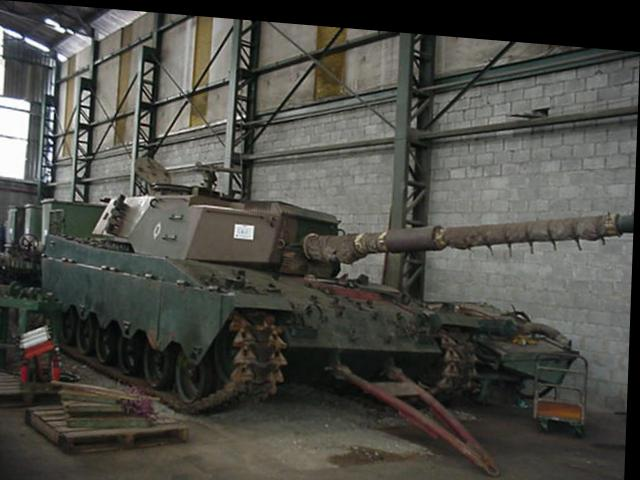tank: (44, 189, 556, 426)
